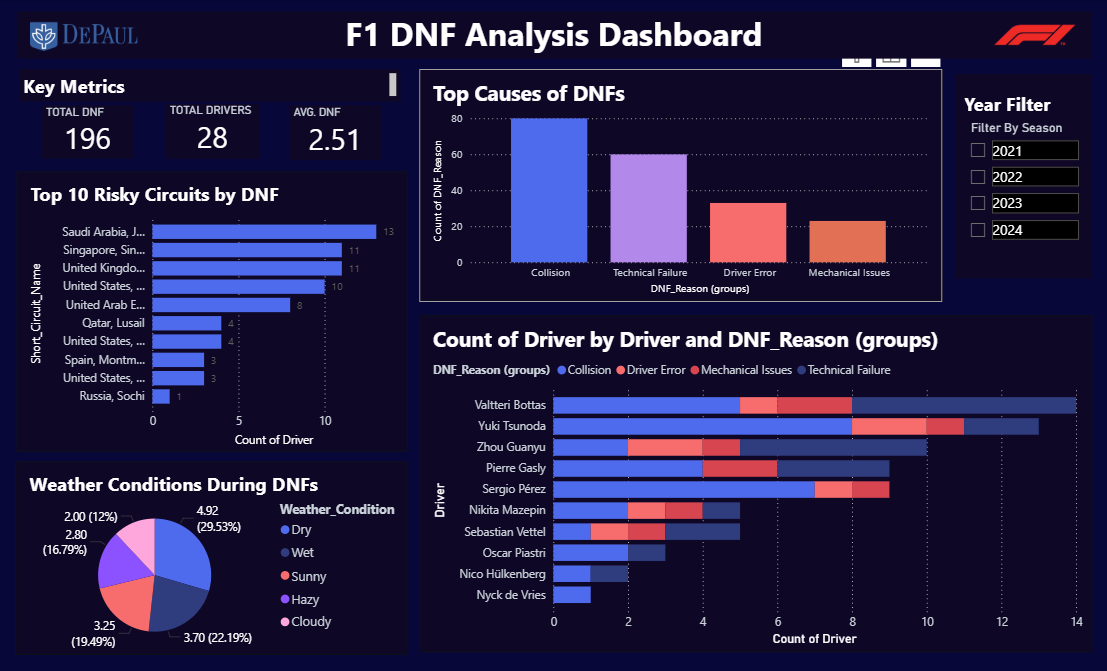

This screenshot's page, from the dashboard's own definition file:
{"tool":"powerbi","page":{"name":"Page 1","canvas":[1280,780],"ordinal":0},"visuals":[{"type":"barChart","title":"Top 10 Risky Circuits by DNF","fields":{"Y":["F1_DNFs_Updated.Driver"],"Category":["F1_DNFs_Updated.Short_Circuit_Name"]},"box":[21.7,199.1,451.2,323.3],"z":0},{"type":"slicer","title":"Year Filter","fields":{"Values":["F1_DNFs_Updated.Season"]},"box":[1105.7,87.1,157.1,235.7],"z":1000},{"type":"group","id":"g1","title":"Group 1","box":[50.5,121.2,391,64.9],"z":2000},{"type":"columnChart","title":"Top Causes of DNFs","fields":{"Y":["F1_DNFs_Updated.DNF_Reason"],"Category":["F1_DNFs_Updated.DNF_Reason (groups)"]},"box":[485.7,81.4,604.3,267.1],"z":3000},{"type":"textbox","box":[24.5,80.8,440,37.5],"z":4000},{"type":"barChart","fields":{"Category":["F1_DNFs_Updated.Driver"],"Y":["F1_DNFs_Updated.Driver"],"Series":["F1_DNFs_Updated.DNF_Reason (groups)"]},"box":[485.7,365.7,777.1,388.6],"z":5000},{"type":"pieChart","title":"Weather Conditions During DNFs","fields":{"Category":["F1_DNFs_Updated.Weather_Condition"],"Y":["F1_DNFs_Updated.DNF Rate"]},"box":[20.9,533.2,452.2,223.5],"z":6000},{"type":"shape","title":"F1 DNF Analysis Dashboard","box":[21.7,14.5,1240.2,54.3],"z":7000},{"type":"card","title":"TOTAL DNF","fields":{"Values":["F1_DNFs_Updated.DNF_Reason"]},"box":[50.5,122.4,105.9,61.8],"z":8000,"group":"g1"},{"type":"image","box":[24.1,8.4,148.4,66.4],"z":8000},{"type":"card","title":"TOTAL DRIVERS","fields":{"Values":["F1_DNFs_Updated.Driver"]},"box":[193.4,121.2,108.6,62.9],"z":9000,"group":"g1"},{"type":"image","box":[1130.4,12.1,131.5,60.3],"z":9000},{"type":"card","title":"AVG. DNF","fields":{"Values":["F1_DNFs_Updated.Avg_DNFs"]},"box":[336.2,122.6,105.7,62.9],"z":10000,"group":"g1"}]}

Visuals, with their boxes in screenshot pixels (x1, y1, x2, y2), scaled from the page's 1280x780 canvas onto the 1107x671 screenshot:
"Top 10 Risky Circuits by DNF" barChart: 19,171,409,449
"Year Filter" slicer: 956,75,1092,278
"Group 1" group: 44,104,382,160
"Top Causes of DNFs" columnChart: 420,70,943,300
textbox: 21,70,402,102
barChart - F1_DNFs_Updated.Driver x F1_DNFs_Updated.Driver: 420,315,1092,649
"Weather Conditions During DNFs" pieChart: 18,459,409,651
"F1 DNF Analysis Dashboard" shape: 19,12,1091,59
"TOTAL DNF" card: 44,105,135,158
image: 21,7,149,64
"TOTAL DRIVERS" card: 167,104,261,158
image: 978,10,1091,62
"AVG. DNF" card: 291,105,382,160
